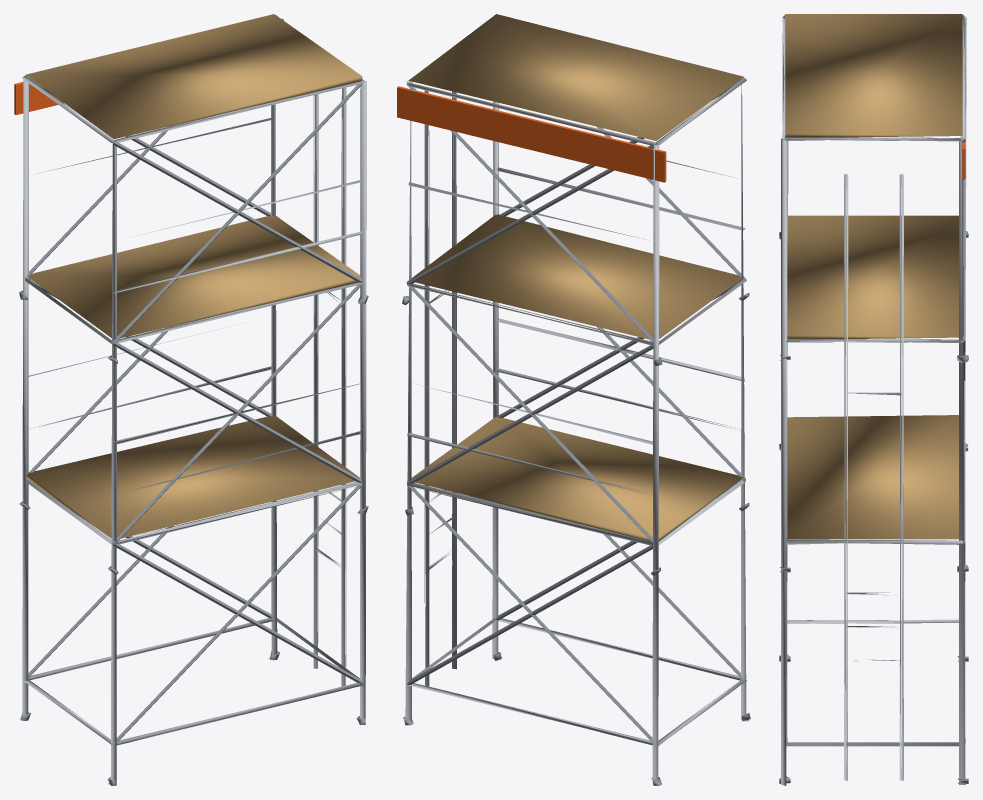
File: lod_scaffold_tower.glb
The picture shows the model from 3 angles, left to right: view 1: azimuth 30°, elevation 25°; view 2: azimuth 150°, elevation 25°; view 3: azimuth 270°, elevation 25°; orthographic projection.
Visible parts, largest first — view 1: scaffold_tower; view 2: scaffold_tower; view 3: scaffold_tower.
Part boxes in pixels (left/top/right/bottom): scaffold_tower: left=14, top=14, right=368, bottom=785; scaffold_tower: left=397, top=14, right=750, bottom=785; scaffold_tower: left=779, top=14, right=968, bottom=785.
Size of the model in its own units: 2.85 by 6.45 by 1.7.
